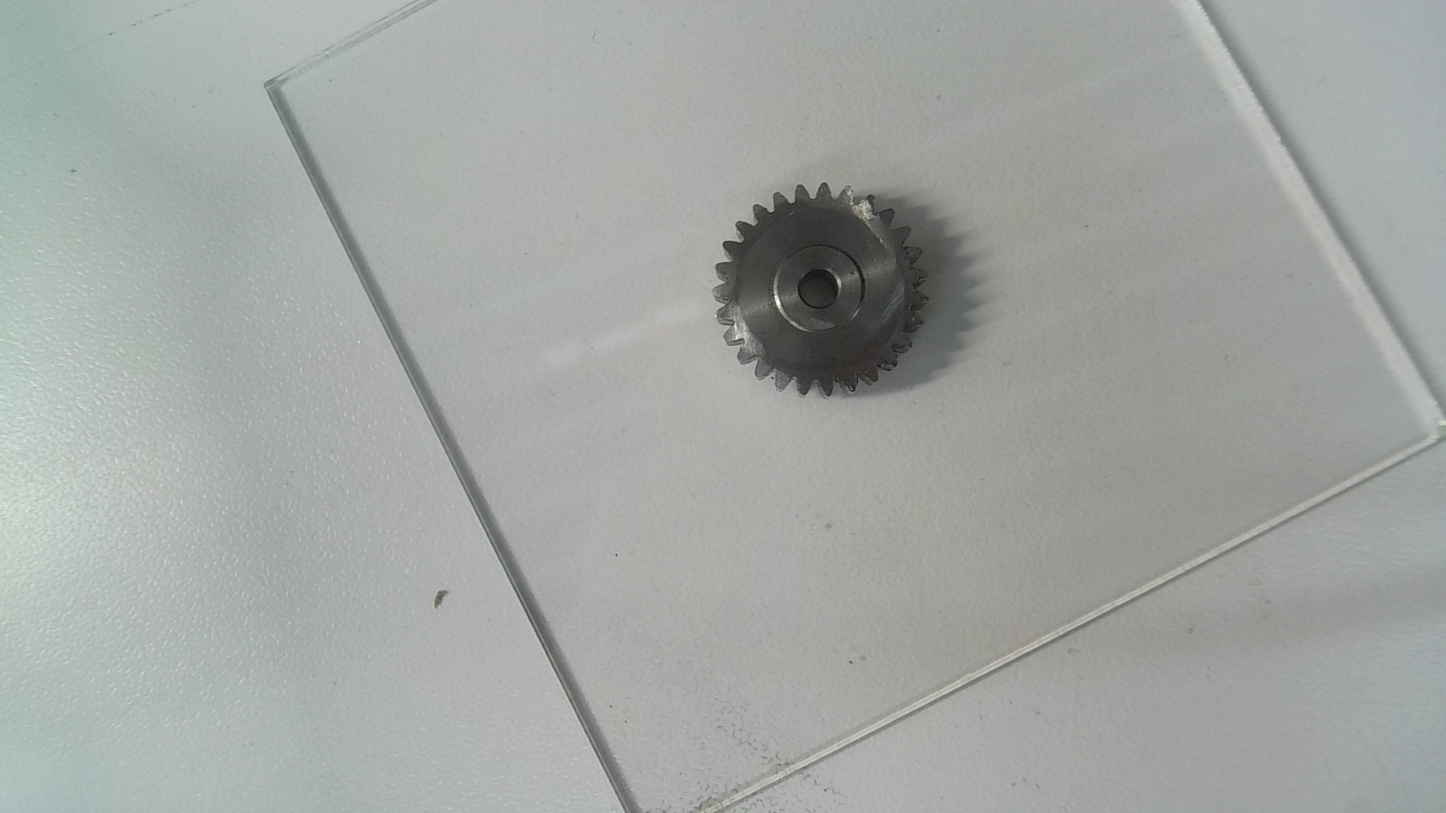gear: (716, 181, 925, 400)
